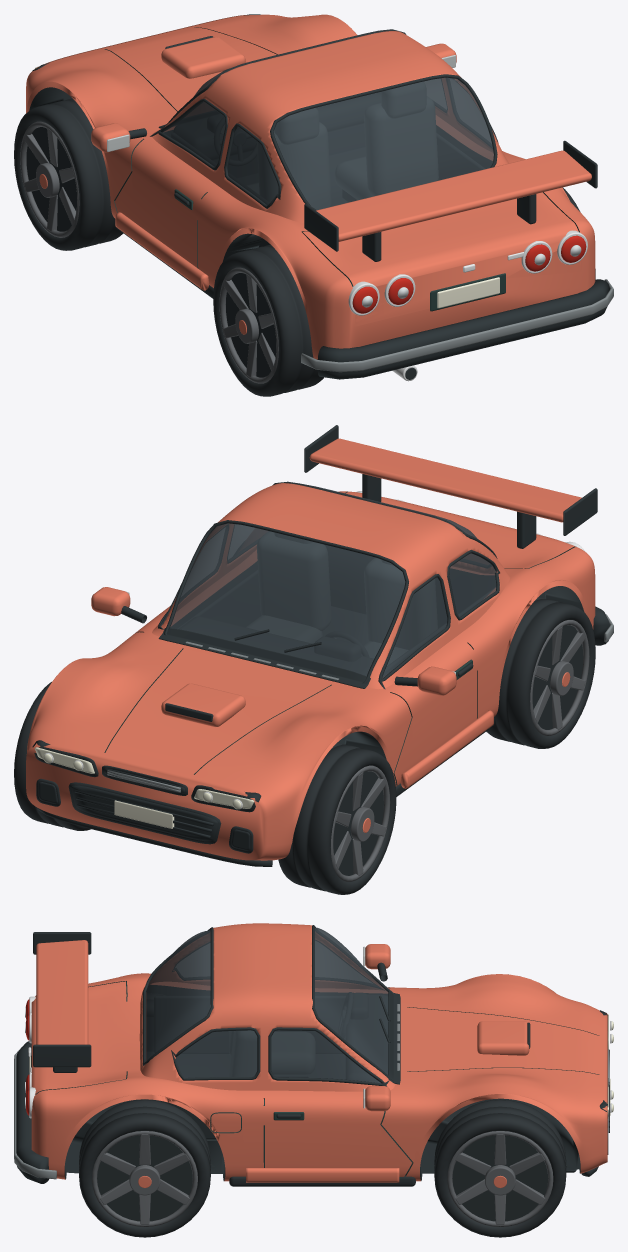
File: hayate.fbx
The picture shows the model from 3 angles, top to bottom: view 1: azimuth 30°, elevation 25°; view 2: azimuth 150°, elevation 25°; view 3: azimuth 270°, elevation 25°; orthographic projection. The views are drawn at different scales.
Visible parts, largest first — view 1: Body, Wheel_RL_Mesh, Wheel_FL_Mesh; view 2: Body, Wheel_FL_Mesh, Wheel_RL_Mesh, Wheel_FR_Mesh; view 3: Body, Wheel_FR_Mesh, Wheel_RR_Mesh, Wheel_RL_Mesh.
Part boxes in pixels (left/top/right/bottom): Body: left=26, top=14, right=613, bottom=381; Wheel_RL_Mesh: left=213, top=244, right=323, bottom=396; Wheel_FL_Mesh: left=14, top=98, right=123, bottom=250; Body: left=26, top=425, right=613, bottom=866; Wheel_FL_Mesh: left=278, top=742, right=396, bottom=894; Wheel_RL_Mesh: left=486, top=597, right=595, bottom=748; Wheel_FR_Mesh: left=14, top=682, right=90, bottom=830; Body: left=14, top=923, right=613, bottom=1186; Wheel_FR_Mesh: left=434, top=1099, right=566, bottom=1237; Wheel_RR_Mesh: left=79, top=1099, right=210, bottom=1237; Wheel_RL_Mesh: left=146, top=993, right=164, bottom=1051.
Bounding box in the file's own units: 239 × 154 × 392.
